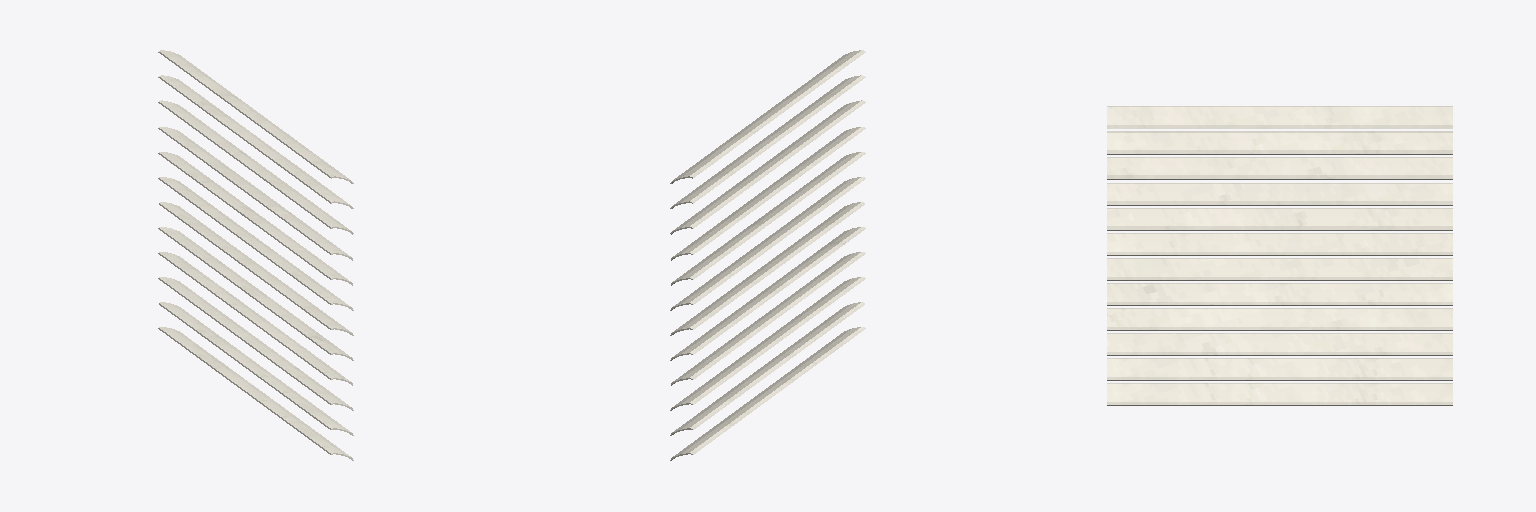
The picture shows the model from 3 angles: view 1: azimuth 30°, elevation 25°; view 2: azimuth 150°, elevation 25°; view 3: azimuth 270°, elevation 25°; orthographic projection.
Parts seen in each view (by area): view 1: blinds; view 2: blinds; view 3: blinds.
Part boxes in pixels (left/top/right/bottom): blinds: left=158, top=50, right=353, bottom=460; blinds: left=670, top=50, right=865, bottom=460; blinds: left=1107, top=106, right=1452, bottom=405.
Bounding box in the file's own units: 0.5545 × 6.72 × 7.26.
Materials: 1 (1 with a texture image).